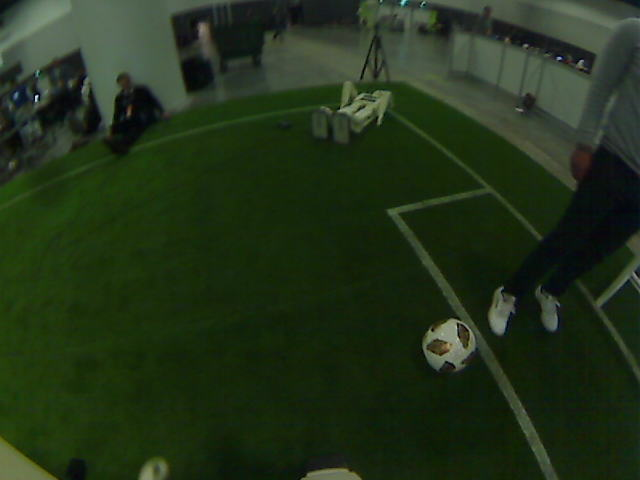ball: (429, 325, 469, 365)
goalpost: (576, 249, 616, 309)
robot: (312, 106, 348, 144)
